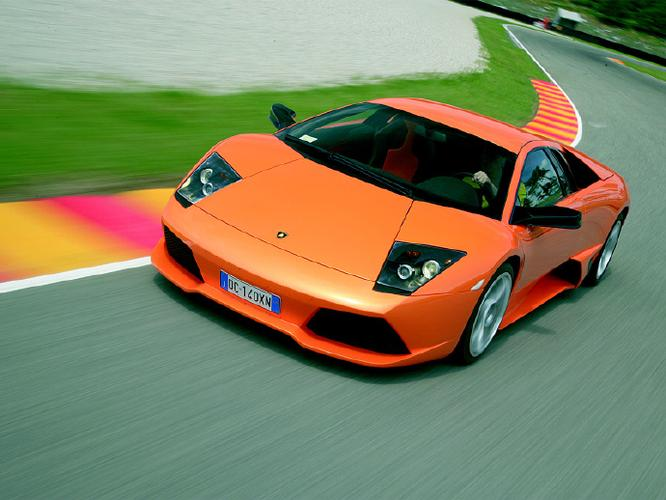汽车: (156, 85, 635, 379)
